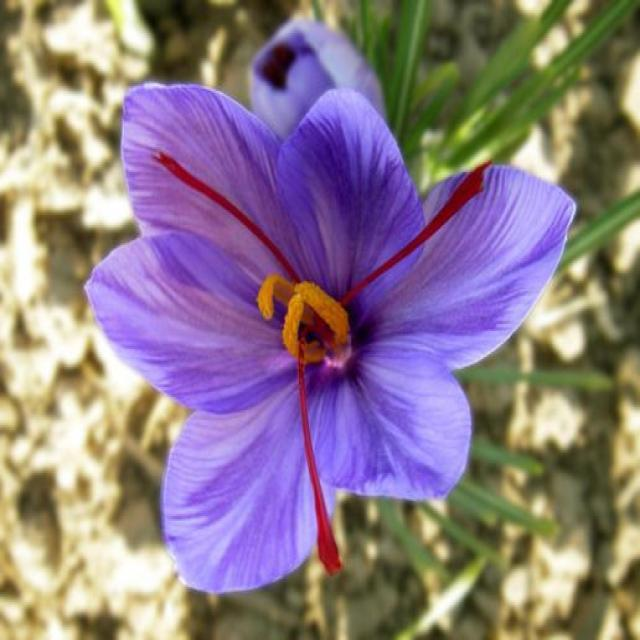Flower: (86, 83, 574, 592)
stigma: (337, 160, 498, 308), (147, 146, 297, 280), (292, 328, 348, 580)
